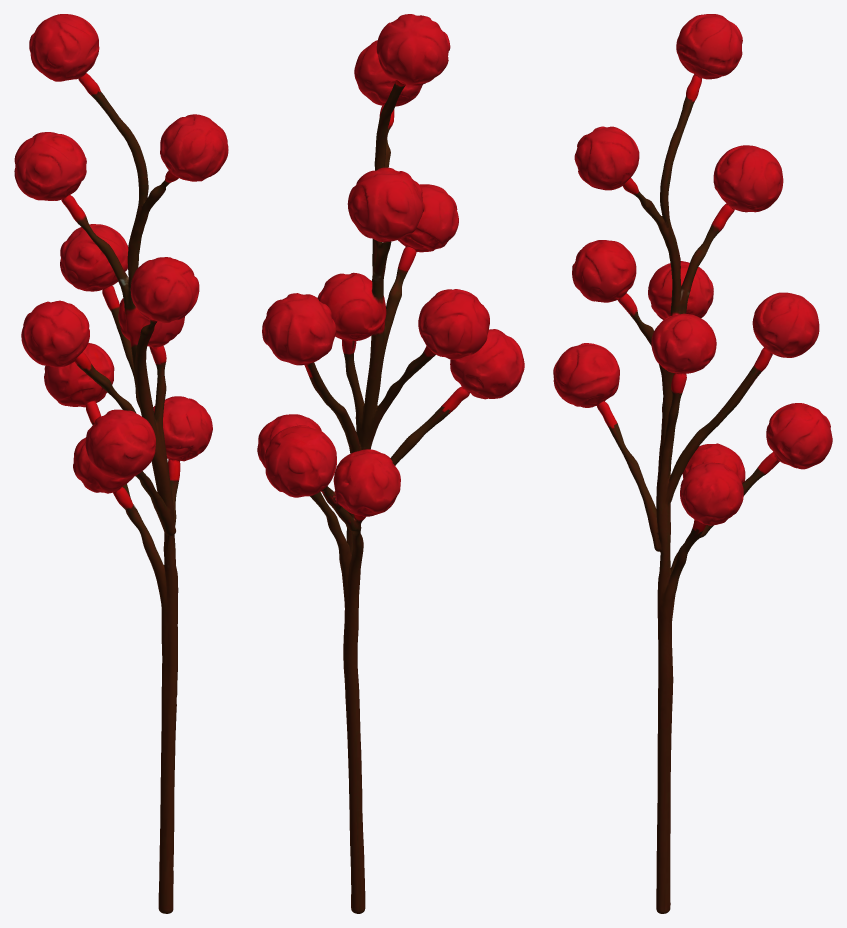
Rendered from RedBalls.glb.
3 renders of one model, left to right at view 1: azimuth 30°, elevation 25°; view 2: azimuth 150°, elevation 25°; view 3: azimuth 270°, elevation 25°, orthographic. The views are drawn at different scales.
Parts seen in each view (by area): view 1: tripo_node_3e020371-9225-4e04-be68-c062e054af35; view 2: tripo_node_3e020371-9225-4e04-be68-c062e054af35; view 3: tripo_node_3e020371-9225-4e04-be68-c062e054af35.
Part boxes in pixels (x1,y1,x2,y2): tripo_node_3e020371-9225-4e04-be68-c062e054af35: [14, 14, 228, 913]; tripo_node_3e020371-9225-4e04-be68-c062e054af35: [257, 14, 524, 913]; tripo_node_3e020371-9225-4e04-be68-c062e054af35: [553, 14, 832, 913].
Size of the model in its own units: 0.2318 by 1 by 0.2945.
Materials: 1 (1 with a texture image).
